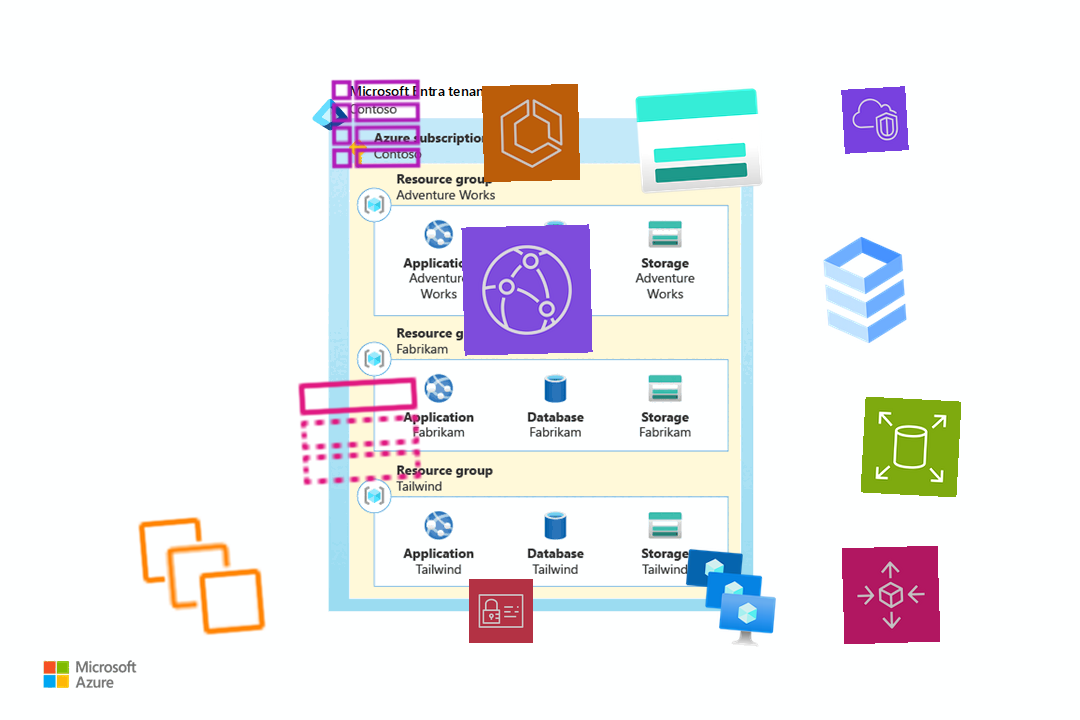aws_amazon_cloudfront: (461, 224, 593, 356)
aws_amazon_elastic_block_store: (860, 396, 962, 498)
aws_amazon_elastic_container_service: (481, 83, 581, 183)
aws_amazon_virtual_private_cloud: (841, 86, 909, 154)
aws_auto_scaling: (841, 545, 941, 645)
aws_dynamodb_table: (327, 75, 425, 173)
aws_ec2_instances: (132, 506, 272, 646)
aws_identity_and_access_management: (468, 578, 534, 644)
aws_simple_notification_service_topic: (292, 363, 428, 499)
azure_storage_accounts: (630, 72, 768, 210)
azure_vm_scale_sets: (677, 544, 781, 648)
gcp_cloud_sql: (796, 221, 934, 359)
